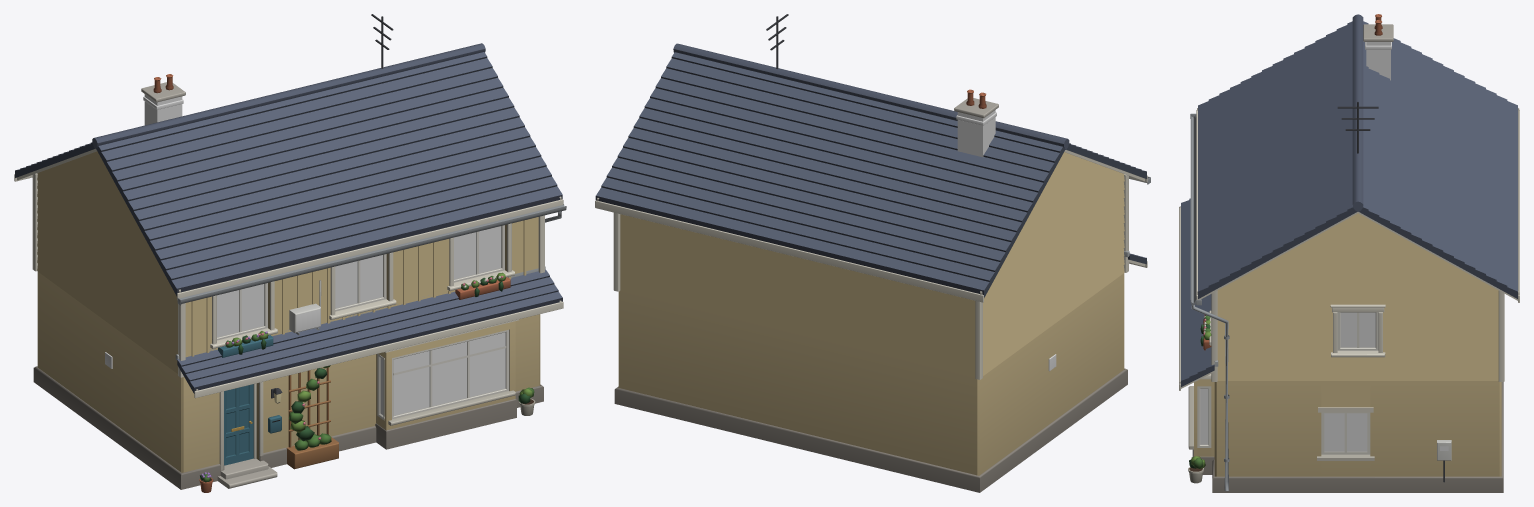
File: HouseLong.fbx
The picture shows the model from 3 angles, left to right: view 1: azimuth 30°, elevation 25°; view 2: azimuth 150°, elevation 25°; view 3: azimuth 270°, elevation 25°; orthographic projection.
Visible parts, largest first — view 1: HouseLong; view 2: HouseLong; view 3: HouseLong.
Boxes of the visible parts, x1,y1,x2,y2 form: HouseLong: (14, 14, 566, 492); HouseLong: (595, 14, 1150, 492); HouseLong: (1179, 14, 1519, 492).
Size of the model in its own units: 10.8 by 9.37 by 8.31.
